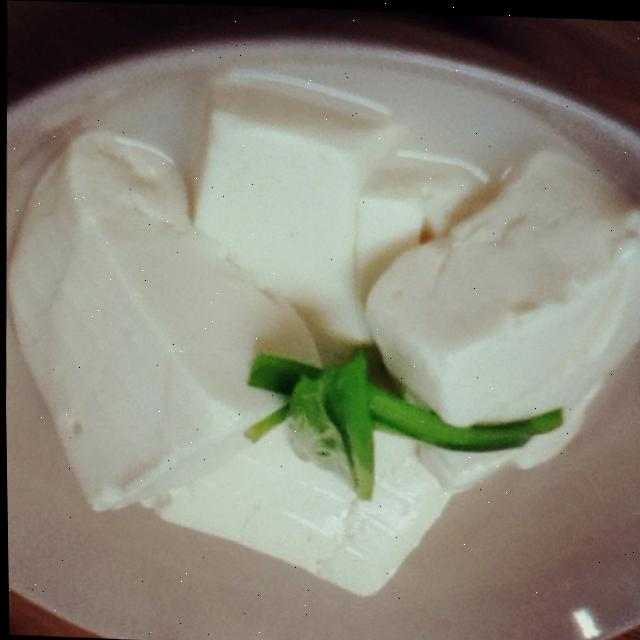豆腐料理: (1, 50, 640, 640)
